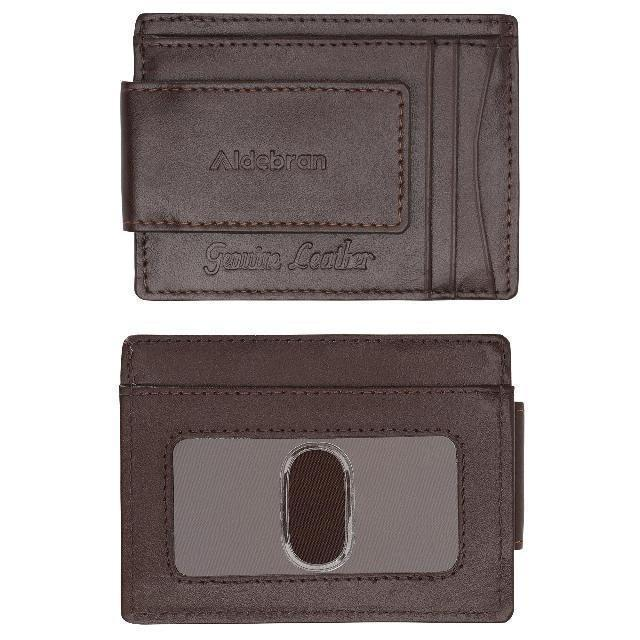Wallet: (119, 331, 515, 625), (134, 11, 516, 299)
